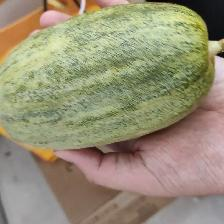gua: (7, 25, 212, 149)
